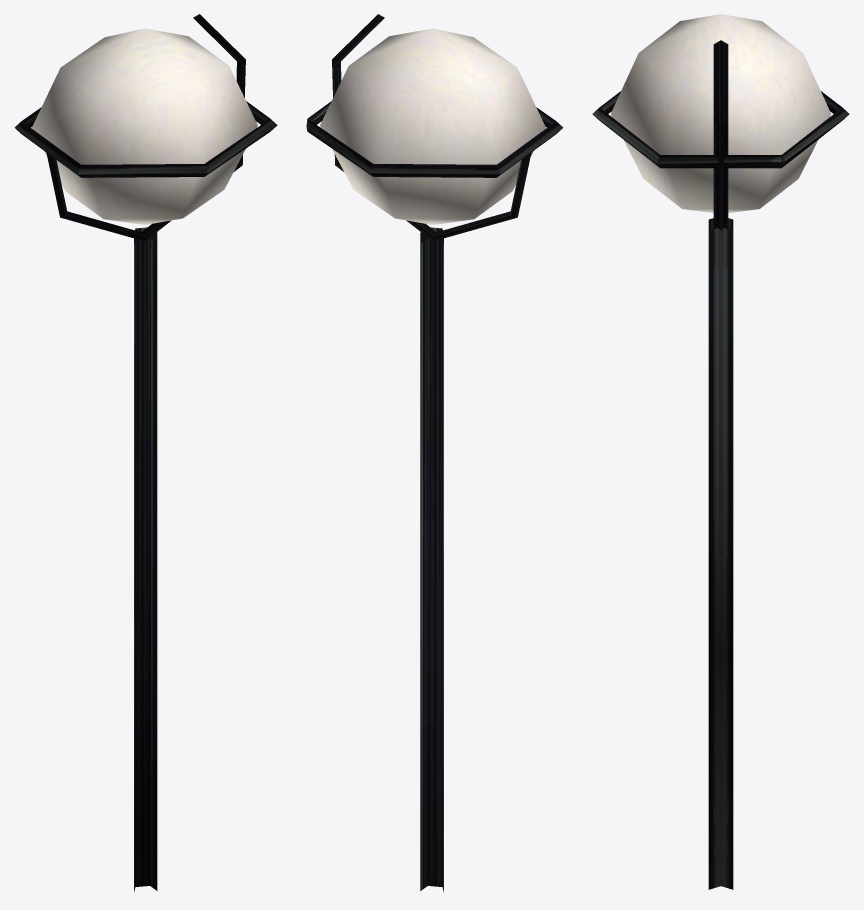
File: frn_all_streetlamp_sm_s2_l1.fbx
3 views of the same model, side by side, from view 1: azimuth 30°, elevation 25°; view 2: azimuth 150°, elevation 25°; view 3: azimuth 270°, elevation 25° (orthographic).
Visible parts, largest first — view 1: mesh_node; view 2: mesh_node; view 3: mesh_node.
Boxes of the visible parts, x1=… form: mesh_node: x1=14, y1=14, x2=277, y2=891; mesh_node: x1=306, y1=14, x2=563, y2=892; mesh_node: x1=592, y1=14, x2=849, y2=889.
Bounding box in the file's own units: 0.7277 × 3 × 0.7978.
